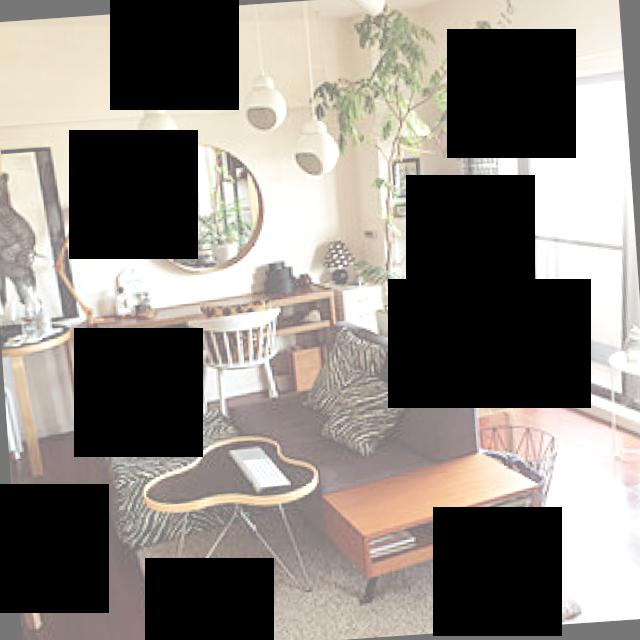vintage chair: (180, 297, 294, 418)
vintage desk: (128, 412, 332, 618)
